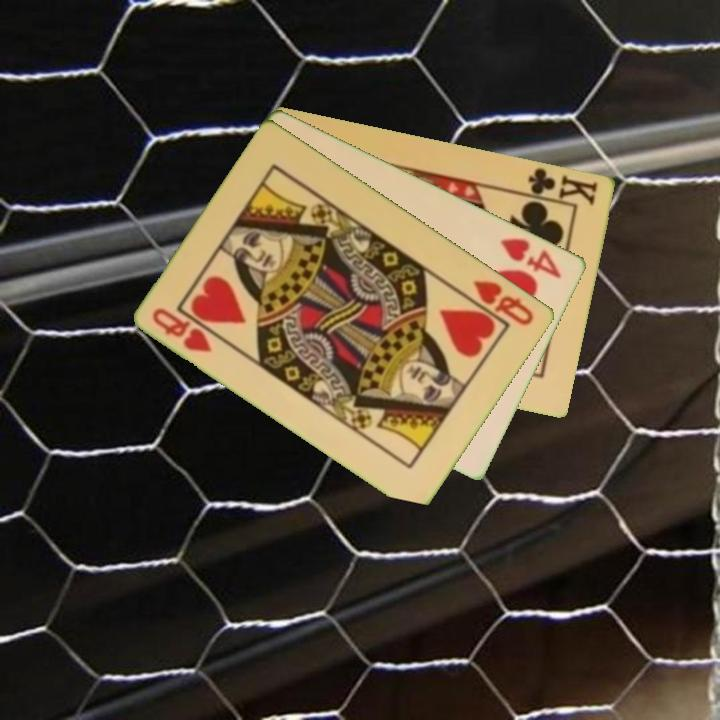4h: (497, 234, 565, 281)
Kc: (519, 163, 601, 208)
Qh: (469, 276, 537, 329), (149, 304, 216, 356)
